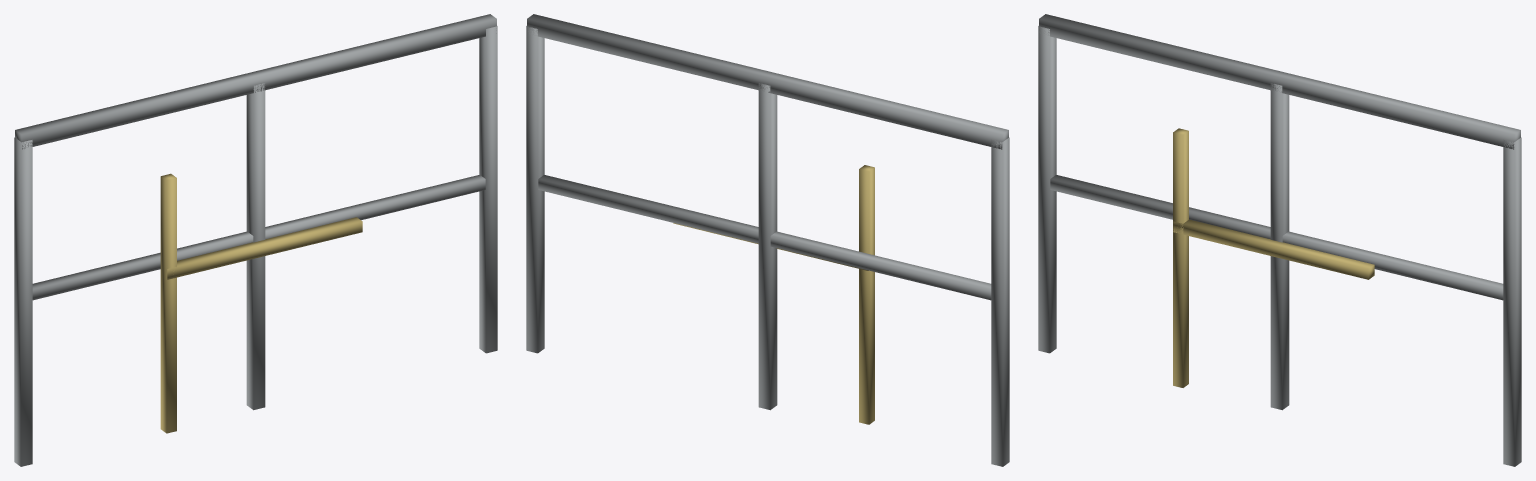
File: residential_gate_l180_h120.glb
3 views of the same model, side by side, from view 1: azimuth 30°, elevation 25°; view 2: azimuth 150°, elevation 25°; view 3: azimuth 330°, elevation 25° (orthographic).
Visible parts, largest first — view 1: world; view 2: world; view 3: world.
Part boxes in pixels (x1,y1,x2,y2): world: (14, 14, 497, 466); world: (526, 14, 1009, 466); world: (1038, 14, 1521, 466).
Size of the model in its own units: 1.85 by 1.23 by 0.0825.
